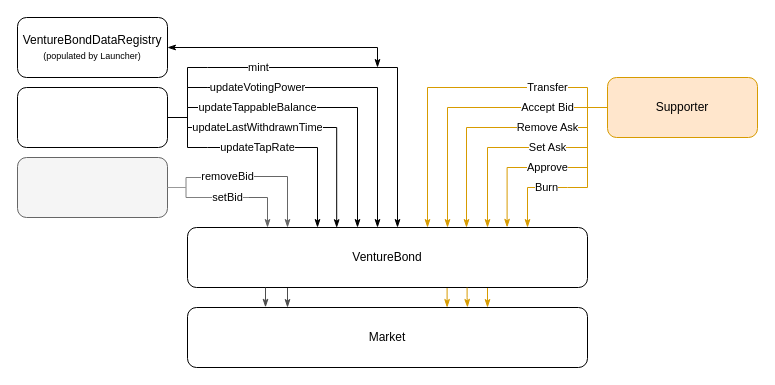
Some shapes in this 775 by 385 pixel diagram are drawn without their labels. Here are the shapes that lost their labels. From the top down, the centre of each, then its label:
At point (92, 117): "BasicLaunch".
At point (92, 187): "Bidder".
